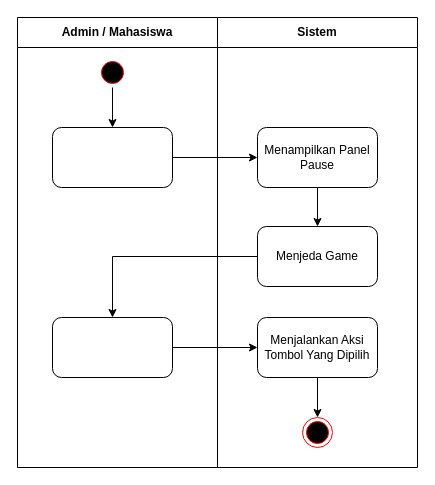
Some shapes in this 435 by 485 pixel diagram are drawn without their labels. The shapes that lost their labels are listed below. From the top down, each one's box as (x1, y1, x2, y2) in pixels, then its label:
(52, 126, 172, 188): Menekan Tombol Pause
(52, 316, 172, 378): Memilih Tombol Yang Ingin Dipilih
